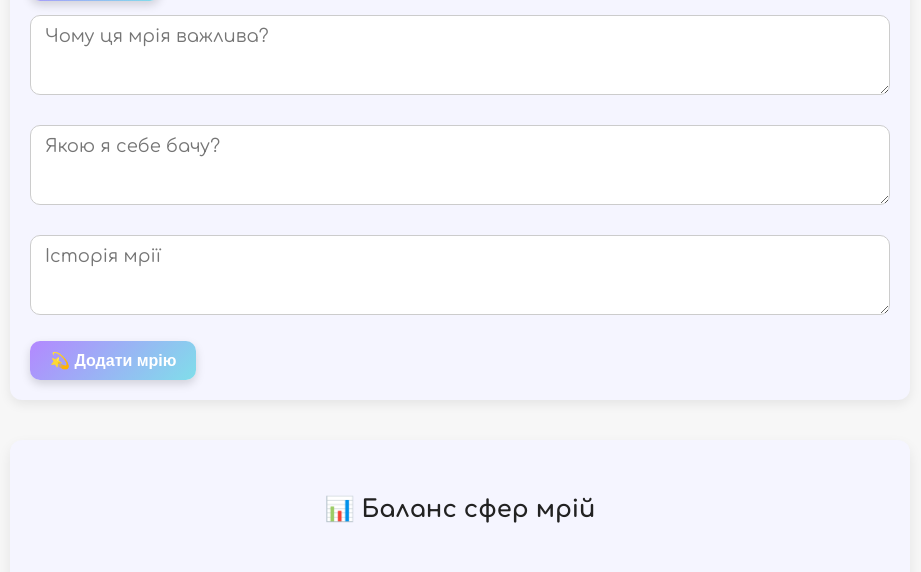
Test case: не додає мрію без жодного кроку
The image size is (921, 572).
(page scrolled)
Click the button "💫 Додати мрію". click: (113, 360)
box: [30, 340, 196, 380]
(page scrolled)
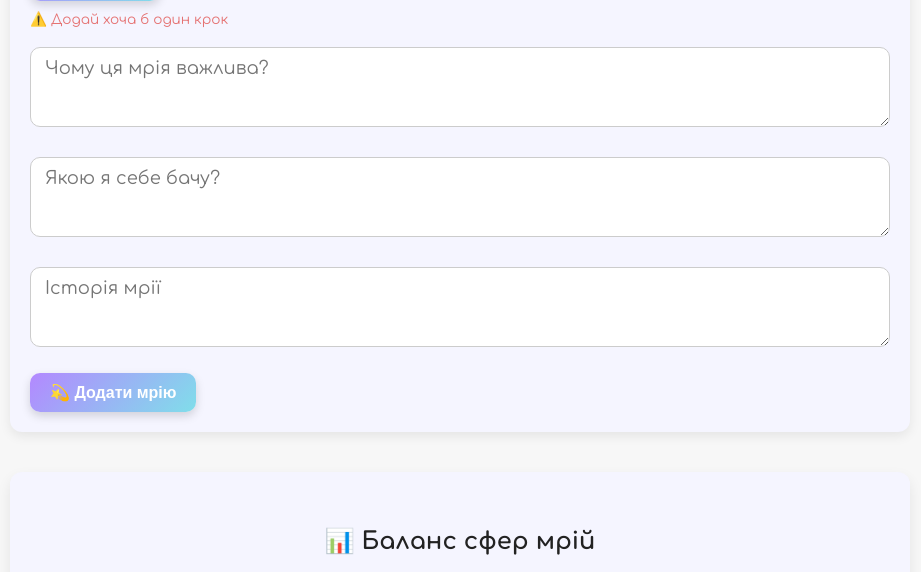
Result: the text "⚠️ Додай хоча б один крок" is shown at [30, 12, 228, 26]
